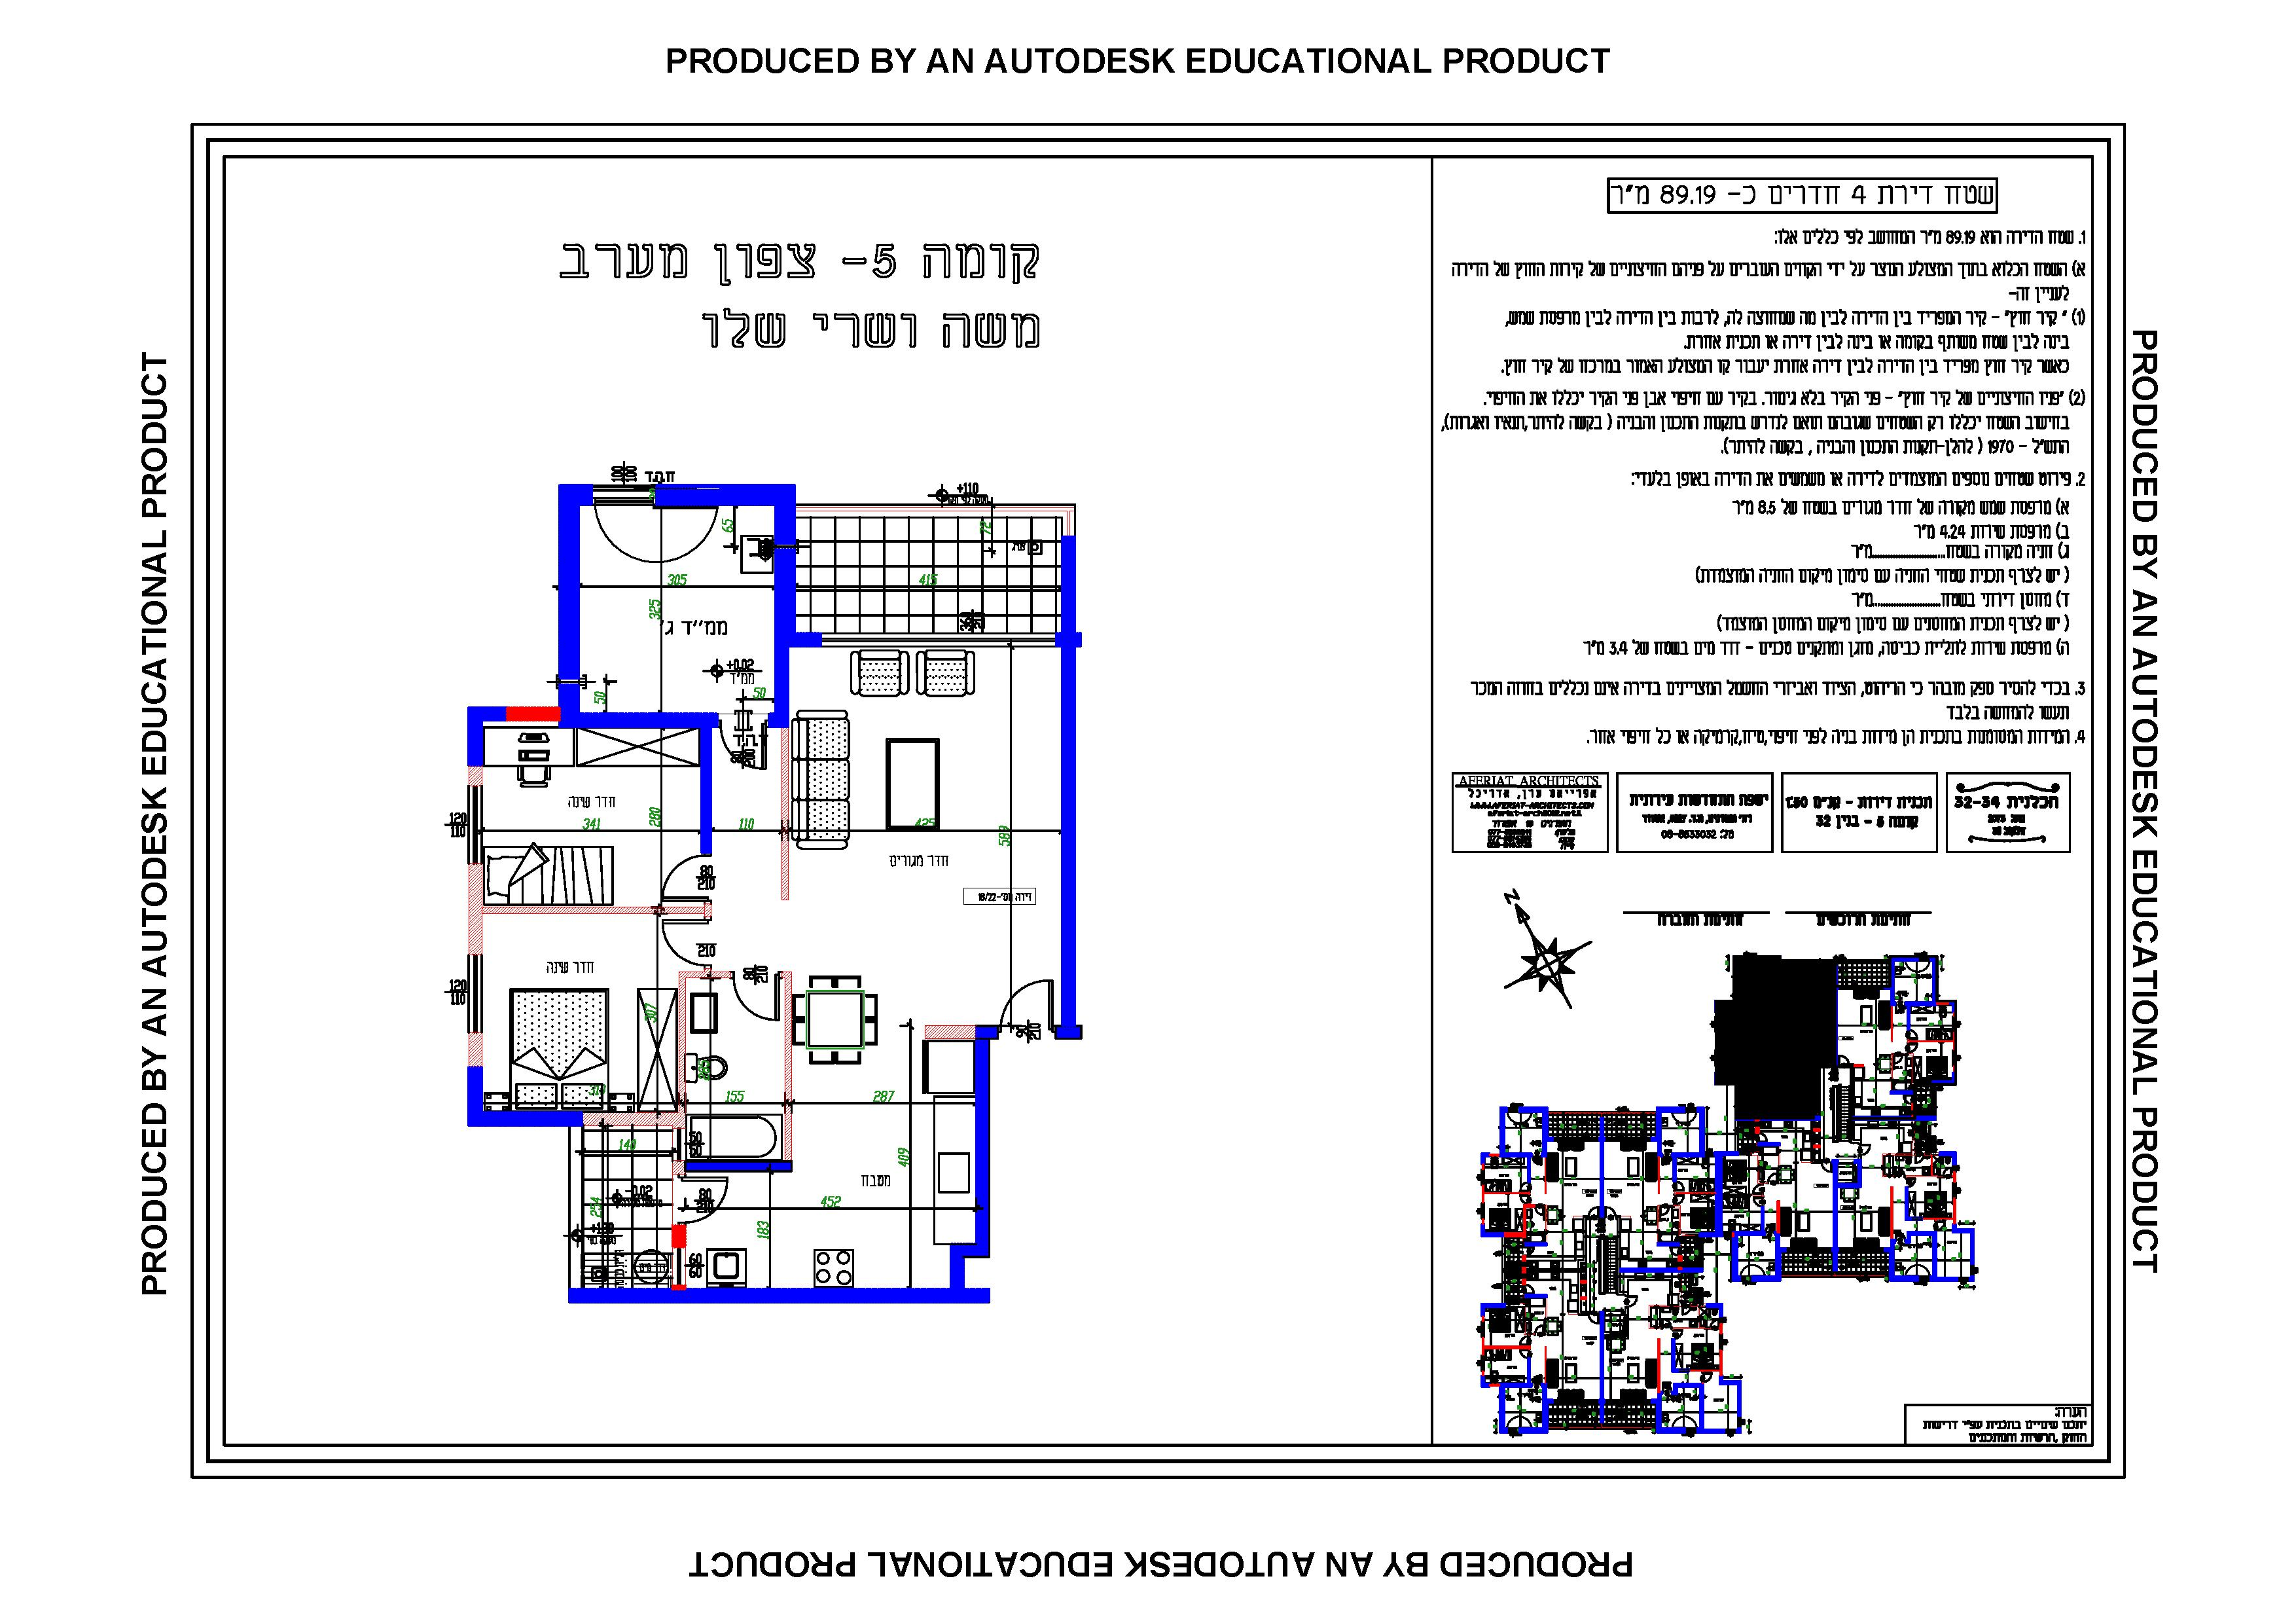door: (999, 968, 1055, 1057), (734, 959, 779, 1036), (660, 855, 734, 901), (657, 919, 723, 968)
wall: (1058, 652, 1094, 1022), (657, 483, 802, 508), (456, 1110, 581, 1129)
window: (465, 957, 486, 1035)
